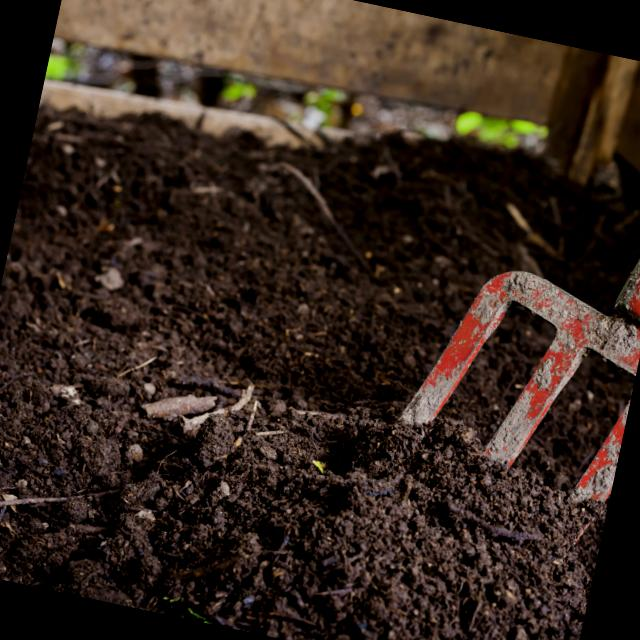suelo_humedo: (42, 161, 608, 622)
